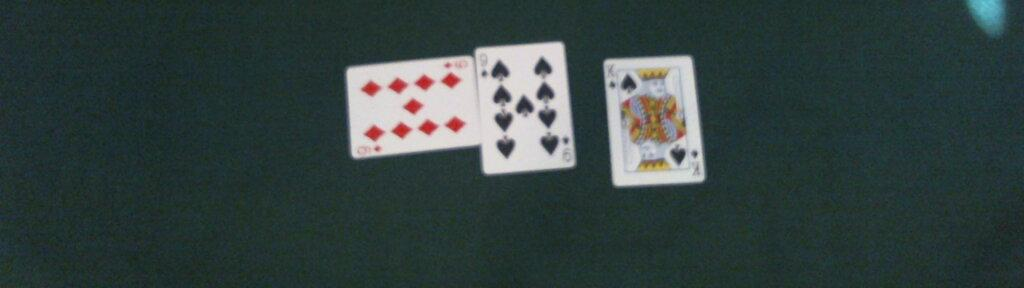king: (601, 55, 707, 187)
nine: (344, 55, 484, 159), (475, 40, 576, 175)
